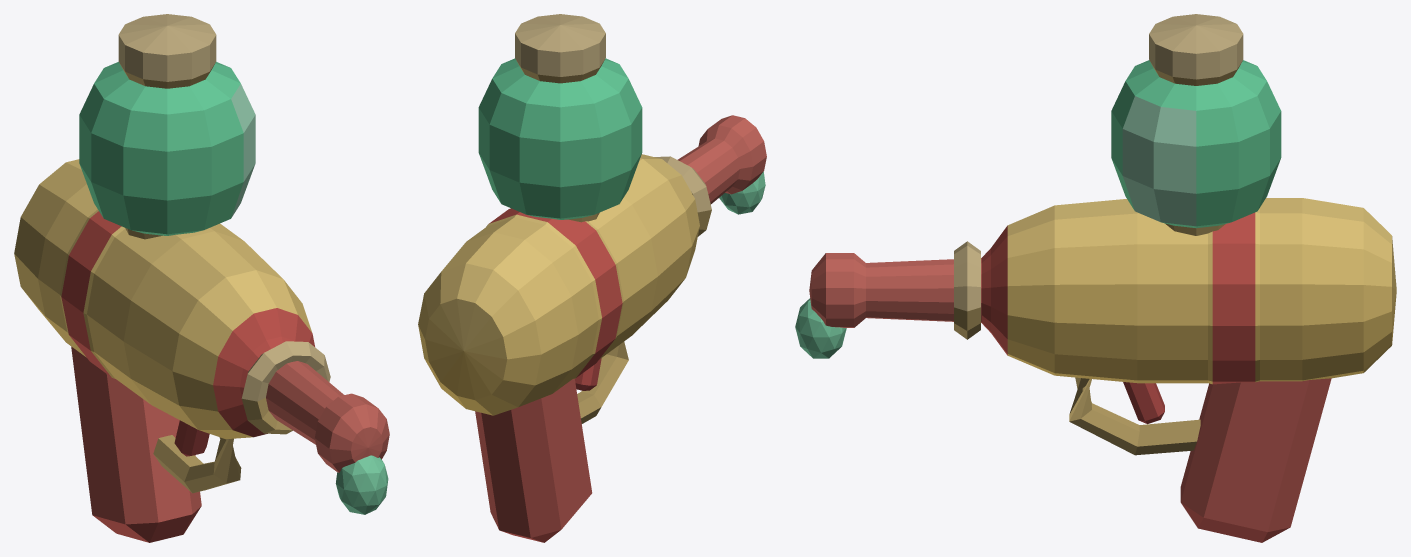
The model's file is pvp_goo_blaster_1.fbx.
3 views of the same model, side by side, from view 1: azimuth 30°, elevation 25°; view 2: azimuth 150°, elevation 25°; view 3: azimuth 270°, elevation 25° (orthographic). The views are drawn at different scales.
Parts seen in each view (by area): view 1: pvp_goo_blaster_1; view 2: pvp_goo_blaster_1; view 3: pvp_goo_blaster_1.
Part boxes in pixels (bbox=[...]): pvp_goo_blaster_1: bbox=[14, 14, 389, 542]; pvp_goo_blaster_1: bbox=[418, 14, 766, 542]; pvp_goo_blaster_1: bbox=[795, 14, 1396, 542].
Bounding box in the file's own units: 0.72 × 2.38 × 2.55.
